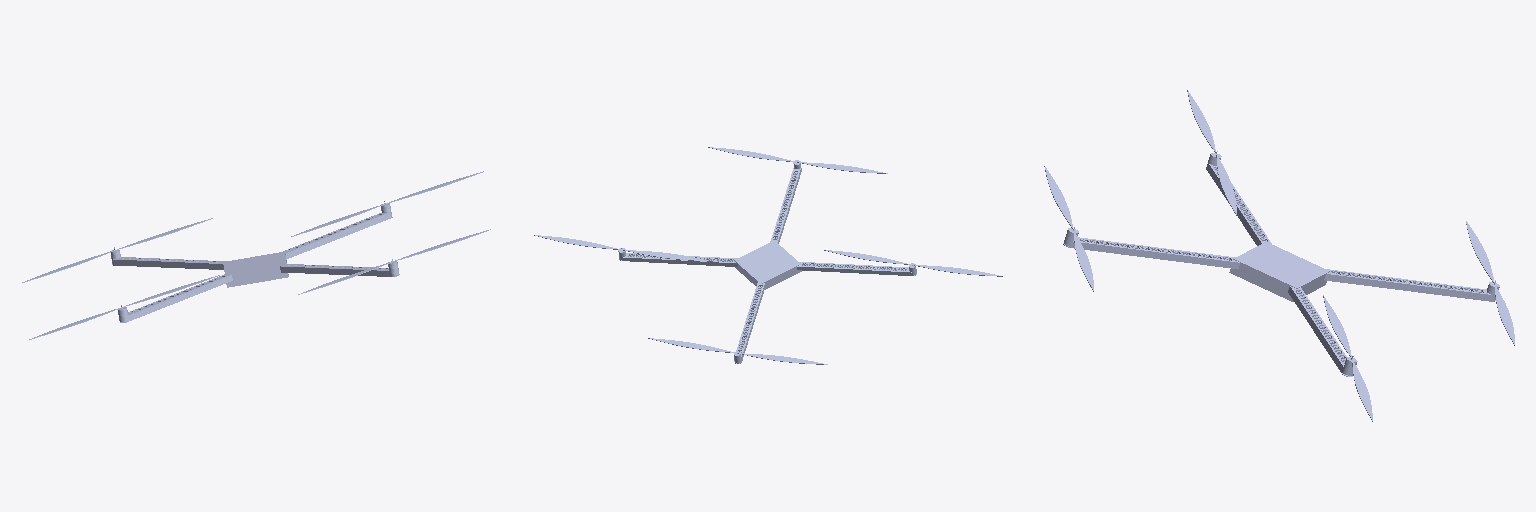
robot.urdf — quadcopter_v1_0_urdf:
<?xml version="1.0" encoding="utf-8"?>
<!-- This URDF was automatically created by SolidWorks to URDF Exporter! Originally created by [author] ([email redacted]) 
     Commit Version: 1.6.0-4-g7f85cfe  Build Version: 1.6.7995.38578
     For more information, please see http://wiki.ros.org/sw_urdf_exporter -->
<robot
  name="quadcopter_v1_0_urdf">
  <link name="dummy">
  </link>
  <joint name="dummy_joint" type="fixed">
    <parent link="dummy"/>
    <child link="base_link"/>
  </joint>
  <link
    name="base_link">
    <inertial>
      <origin
        xyz="-0.0908579511245632 -0.183089894727343 0.328868204622195"
        rpy="0 0 0" />
      <mass
        value="0.0642" />
      <inertia
        ixx="7.88759298386174E-05"
        ixy="-2.59873780156465E-06"
        ixz="7.28111147136525E-07"
        iyy="0.000147664365037692"
        iyz="-1.93005267495999E-05"
        izz="8.41854903635427E-05" />
    </inertial>
    <visual>
      <origin
        xyz="0 0 0"
        rpy="0 0 0" />
      <geometry>
        <mesh
          filename="package://quadcopter_v1_0_urdf/meshes/base_link.STL" />
      </geometry>
      <material
        name="">
        <color
          rgba="0.792156862745098 0.819607843137255 0.933333333333333 1" />
      </material>
    </visual>
    <collision>
      <origin
        xyz="0 0 0"
        rpy="0 0 0" />
      <geometry>
        <mesh
          filename="package://quadcopter_v1_0_urdf/meshes/base_link.STL" />
      </geometry>
    </collision>
  </link>
  <link
    name="arm_1">
    <inertial>
      <origin
        xyz="0.0241643636180894 0.00583843702481002 -0.0350154607412529"
        rpy="0 0 0" />
      <mass
        value="0.0308142804545101" />
      <inertia
        ixx="1.15551361111578E-06"
        ixy="-3.83944153122613E-20"
        ixz="5.70580995219612E-10"
        iyy="0.000129332253895926"
        iyz="6.7762635780344E-21"
        izz="0.000128900963335191" />
    </inertial>
    <visual>
      <origin
        xyz="0 0 0"
        rpy="0 0 0" />
      <geometry>
        <mesh
          filename="package://quadcopter_v1_0_urdf/meshes/arm_1.STL" />
      </geometry>
      <material
        name="">
        <color
          rgba="0.792156862745098 0.819607843137255 0.933333333333333 1" />
      </material>
    </visual>
    <collision>
      <origin
        xyz="0 0 0"
        rpy="0 0 0" />
      <geometry>
        <mesh
          filename="package://quadcopter_v1_0_urdf/meshes/arm_1.STL" />
      </geometry>
    </collision>
  </link>
  <joint
    name="arm_1_joint"
    type="fixed">
    <origin
      xyz="-0.270071494826336 -0.348879463866116 -0.183583562305019"
      rpy="1.84239431223773 -0.0468894372043293 -2.84099956290566" />
    <parent
      link="base_link" />
    <child
      link="arm_1" />
    <axis
      xyz="0 0 0" />
  </joint>
  <link
    name="prop_1">
    <inertial>
      <origin
        xyz="8.57165187915232E-05 0.0138647799159885 0.00292675490410388"
        rpy="0 0 0" />
      <mass
        value="0.00407364353872868" />
      <inertia
        ixx="7.13491545834003E-08"
        ixy="5.46613022005476E-14"
        ixz="2.23553151213388E-07"
        iyy="7.76742940464573E-06"
        iyz="-1.22776049275972E-15"
        izz="7.69675923103702E-06" />
    </inertial>
    <visual>
      <origin
        xyz="0 0 0"
        rpy="0 0 0" />
      <geometry>
        <mesh
          filename="package://quadcopter_v1_0_urdf/meshes/prop_1.STL" />
      </geometry>
      <material
        name="">
        <color
          rgba="0.792156862745098 0.819607843137255 0.933333333333333 1" />
      </material>
    </visual>
    <collision>
      <origin
        xyz="0 0 0"
        rpy="0 0 0" />
      <geometry>
        <mesh
          filename="package://quadcopter_v1_0_urdf/meshes/prop_1.STL" />
      </geometry>
    </collision>
  </link>
  <joint
    name="prop_1_joint"
    type="continuous">
    <origin
      xyz="0.131825607100094 0.00990973980420728 -0.0350636025394211"
      rpy="3.14159265358979 0.166927212605199 3.14159265358979" />
    <parent
      link="arm_1" />
    <child
      link="prop_1" />
    <axis
      xyz="0 1 0" />
  </joint>
  <link
    name="arm_2">
    <inertial>
      <origin
        xyz="0.0325812720452767 -0.002876679002353 0.10261289576674"
        rpy="0 0 0" />
      <mass
        value="0.0308142804545101" />
      <inertia
        ixx="0.00011723419184482"
        ixy="-6.35274710440725E-22"
        ixz="-3.68003181261055E-05"
        iyy="0.000129332253895926"
        iyz="-1.75759336555267E-20"
        izz="1.28222851014875E-05" />
    </inertial>
    <visual>
      <origin
        xyz="0 0 0"
        rpy="0 0 0" />
      <geometry>
        <mesh
          filename="package://quadcopter_v1_0_urdf/meshes/arm_2.STL" />
      </geometry>
      <material
        name="">
        <color
          rgba="0.792156862745098 0.819607843137255 0.933333333333333 1" />
      </material>
    </visual>
    <collision>
      <origin
        xyz="0 0 0"
        rpy="0 0 0" />
      <geometry>
        <mesh
          filename="package://quadcopter_v1_0_urdf/meshes/arm_2.STL" />
      </geometry>
    </collision>
  </link>
  <joint
    name="arm_2_joint"
    type="fixed">
    <origin
      xyz="-0.182959418638706 -0.0434395139297345 -0.256828107057952"
      rpy="1.29762186290921 -0.0363101041830462 0.00499110811962786" />
    <parent
      link="base_link" />
    <child
      link="arm_2" />
    <axis
      xyz="0 1 0" />
  </joint>
  <link
    name="prop_2">
    <inertial>
      <origin
        xyz="8.57165187900522E-05 0.0140272395195912 0.00292675490410353"
        rpy="0 0 0" />
      <mass
        value="0.00407364353872871" />
      <inertia
        ixx="7.1349154583402E-08"
        ixy="5.46612840356614E-14"
        ixz="2.23553151213408E-07"
        iyy="7.76742940464581E-06"
        iyz="-1.22776070451795E-15"
        izz="7.6967592310371E-06" />
    </inertial>
    <visual>
      <origin
        xyz="0 0 0"
        rpy="0 0 0" />
      <geometry>
        <mesh
          filename="package://quadcopter_v1_0_urdf/meshes/prop_2.STL" />
      </geometry>
      <material
        name="">
        <color
          rgba="0.792156862745098 0.819607843137255 0.933333333333333 1" />
      </material>
    </visual>
    <collision>
      <origin
        xyz="0 0 0"
        rpy="0 0 0" />
      <geometry>
        <mesh
          filename="package://quadcopter_v1_0_urdf/meshes/prop_2.STL" />
      </geometry>
    </collision>
  </link>
  <joint
    name="prop_2_joint"
    type="continuous">
    <origin
      xyz="0 0 0"
      rpy="0 0.140074001564635 0" />
    <parent
      link="arm_2" />
    <child
      link="prop_2" />
    <axis
      xyz="0 1 0" />
  </joint>
  <link
    name="arm_3">
    <inertial>
      <origin
        xyz="0.0241643636180893 0.00591563883907265 -0.0350154607412529"
        rpy="0 0 0" />
      <mass
        value="0.0308142804545101" />
      <inertia
        ixx="1.1555136111158E-06"
        ixy="5.39718806078599E-20"
        ixz="5.70580995209606E-10"
        iyy="0.000129332253895926"
        iyz="0"
        izz="0.000128900963335192" />
    </inertial>
    <visual>
      <origin
        xyz="0 0 0"
        rpy="0 0 0" />
      <geometry>
        <mesh
          filename="package://quadcopter_v1_0_urdf/meshes/arm_3.STL" />
      </geometry>
      <material
        name="">
        <color
          rgba="0.792156862745098 0.819607843137255 0.933333333333333 1" />
      </material>
    </visual>
    <collision>
      <origin
        xyz="0 0 0"
        rpy="0 0 0" />
      <geometry>
        <mesh
          filename="package://quadcopter_v1_0_urdf/meshes/arm_3.STL" />
      </geometry>
    </collision>
  </link>
  <joint
    name="arm_3_joint"
    type="fixed">
    <origin
      xyz="0.0883094515572144 -0.308514261329835 -0.181373136424891"
      rpy="1.29919834135206 0.0468894372043292 0.30059309068413" />
    <parent
      link="base_link" />
    <child
      link="arm_3" />
    <axis
      xyz="0 0 0" />
  </joint>
  <link
    name="prop_3">
    <inertial>
      <origin
        xyz="8.57165187891917E-05 0.0138647799159876 0.00292675490410416"
        rpy="0 0 0" />
      <mass
        value="0.00407364353872878" />
      <inertia
        ixx="7.1349154583403E-08"
        ixy="5.46612899483484E-14"
        ixz="2.23553151213431E-07"
        iyy="7.76742940464606E-06"
        iyz="-1.22776028100148E-15"
        izz="7.69675923103735E-06" />
    </inertial>
    <visual>
      <origin
        xyz="0 0 0"
        rpy="0 0 0" />
      <geometry>
        <mesh
          filename="package://quadcopter_v1_0_urdf/meshes/prop3.STL" />
      </geometry>
      <material
        name="">
        <color
          rgba="0.792156862745098 0.819607843137255 0.933333333333333 1" />
      </material>
    </visual>
    <collision>
      <origin
        xyz="0 0 0"
        rpy="0 0 0" />
      <geometry>
        <mesh
          filename="package://quadcopter_v1_0_urdf/meshes/prop3.STL" />
      </geometry>
    </collision>
  </link>
  <joint
    name="prop_3_joint"
    type="continuous">
    <origin
      xyz="0.131825607100094 0.00939341612020517 -0.0350636025394209"
      rpy="0 -0.166927212605201 0" />
    <parent
      link="arm_3" />
    <child
      link="prop_3" />
    <axis
      xyz="0 1 0" />
  </joint>
  <link
    name="arm_4">
    <inertial>
      <origin
        xyz="0.0241643636180889 0.005847900774412 -0.0350154607412529"
        rpy="0 0 0" />
      <mass
        value="0.0308142804545102" />
      <inertia
        ixx="1.15551361111578E-06"
        ixy="-2.04717275439524E-19"
        ixz="5.70580995367366E-10"
        iyy="0.000129332253895927"
        iyz="-2.03287907341032E-20"
        izz="0.000128900963335192" />
    </inertial>
    <visual>
      <origin
        xyz="0 0 0"
        rpy="0 0 0" />
      <geometry>
        <mesh
          filename="package://quadcopter_v1_0_urdf/meshes/arm_4.STL" />
      </geometry>
      <material
        name="">
        <color
          rgba="0.792156862745098 0.819607843137255 0.933333333333333 1" />
      </material>
    </visual>
    <collision>
      <origin
        xyz="0 0 0"
        rpy="0 0 0" />
      <geometry>
        <mesh
          filename="package://quadcopter_v1_0_urdf/meshes/arm_4.STL" />
      </geometry>
    </collision>
  </link>
  <joint
    name="arm_4_joint"
    type="fixed">
    <origin
      xyz="-0.0717575933124926 -0.501169219567261 -0.133433827316574"
      rpy="1.52212544568917 -0.271291919602174 -1.25715102486467" />
    <parent
      link="base_link" />
    <child
      link="arm_4" />
    <axis
      xyz="0 0 0" />
  </joint>
  <link
    name="prop_4">
    <inertial>
      <origin
        xyz="8.58015515640825E-05 0.0138647799159881 -0.00292675241249418"
        rpy="0 0 0" />
      <mass
        value="0.00407364353872863" />
      <inertia
        ixx="7.13581325632632E-08"
        ixy="-5.46393852329636E-14"
        ixz="-2.23706218319812E-07"
        iyy="7.76742940464543E-06"
        iyz="-1.97494180805989E-15"
        izz="7.69675025305686E-06" />
    </inertial>
    <visual>
      <origin
        xyz="0 0 0"
        rpy="0 0 0" />
      <geometry>
        <mesh
          filename="package://quadcopter_v1_0_urdf/meshes/prop_4.STL" />
      </geometry>
      <material
        name="">
        <color
          rgba="0.792156862745098 0.819607843137255 0.933333333333333 1" />
      </material>
    </visual>
    <collision>
      <origin
        xyz="0 0 0"
        rpy="0 0 0" />
      <geometry>
        <mesh
          filename="package://quadcopter_v1_0_urdf/meshes/prop_4.STL" />
      </geometry>
    </collision>
  </link>
  <joint
    name="prop_4_joint"
    type="continuous">
    <origin
      xyz="0.131825607100094 0.00912937612862014 -0.0350636025394206"
      rpy="-3.14159265358976 -1.46245587192948 3.14159265358976" />
    <parent
      link="arm_4" />
    <child
      link="prop_4" />
    <axis
      xyz="0 1 0" />
  </joint>
  
  <transmission name="tran1">
    <type>transmission_interface/SimpleTransmission</type>
    <joint name="prop_1_joint">
      <hardwareInterface>hardware_interface/VelocityJointInterface</hardwareInterface>
    </joint>
    <actuator name="motor1">
      <hardwareInterface>hardware_interface/VelocityJointInterface</hardwareInterface>
      <mechanicalReduction>1</mechanicalReduction>
    </actuator>
  </transmission>

  <transmission name="tran2">
    <type>transmission_interface/SimpleTransmission</type>
    <joint name="prop_2_joint">
      <hardwareInterface>hardware_interface/VelocityJointInterface</hardwareInterface>
    </joint>
    <actuator name="motor2">
      <hardwareInterface>hardware_interface/VelocityJointInterface</hardwareInterface>
      <mechanicalReduction>1</mechanicalReduction>
    </actuator>
  </transmission>
  
  <transmission name="tran3">
    <type>transmission_interface/SimpleTransmission</type>
    <joint name="prop_3_joint">
      <hardwareInterface>hardware_interface/VelocityJointInterface</hardwareInterface>
    </joint>
    <actuator name="motor3">
      <hardwareInterface>hardware_interface/VelocityJointInterface</hardwareInterface>
      <mechanicalReduction>1</mechanicalReduction>
    </actuator>
  </transmission>
  
  <transmission name="tran4">
    <type>transmission_interface/SimpleTransmission</type>
    <joint name="prop_4_joint">
      <hardwareInterface>hardware_interface/VelocityJointInterface</hardwareInterface>
    </joint>
    <actuator name="motor4">
      <hardwareInterface>hardware_interface/VelocityJointInterface</hardwareInterface>
      <mechanicalReduction>1</mechanicalReduction>
    </actuator>
  </transmission>
  
  <gazebo>
    <plugin name="gazebo_ros_control" filename="libgazebo_ros_control.so">
      <robotNamespace></robotNamespace>
    </plugin>
  </gazebo>
  
</robot>

--- Render facts (derived) ---
Views: 3 orthographic renders of the robot side by side, from view 1: azimuth 30°, elevation 25°; view 2: azimuth 150°, elevation 25°; view 3: azimuth 270°, elevation 25°.
Model quadcopter_v1_0_urdf with 10 links and 9 joints (4 continuous, 5 fixed), rooted at dummy, posed all joints at 0.
Visible links, largest first — view 1: base_link, arm_1, arm_3, arm_2, arm_4; view 2: base_link, arm_1, arm_3, arm_2, arm_4, prop_2, prop_3, prop_4, prop_1; view 3: base_link, arm_2, arm_4, arm_3, arm_1, prop_3, prop_1, prop_2, prop_4.
Link boxes in pixels (left/top/right/bottom): base_link: left=223, top=252, right=288, bottom=287; arm_1: left=118, top=274, right=232, bottom=322; arm_3: left=283, top=201, right=392, bottom=259; arm_2: left=110, top=247, right=225, bottom=269; arm_4: left=280, top=259, right=399, bottom=276; base_link: left=734, top=240, right=801, bottom=289; arm_1: left=797, top=262, right=916, bottom=275; arm_3: left=618, top=248, right=737, bottom=266; arm_2: left=734, top=282, right=765, bottom=363; arm_4: left=770, top=160, right=801, bottom=243; prop_2: left=648, top=338, right=827, bottom=364; prop_3: left=534, top=235, right=712, bottom=261; prop_4: left=708, top=147, right=887, bottom=173; prop_1: left=824, top=250, right=1002, bottom=276; base_link: left=1229, top=242, right=1329, bottom=301; arm_2: left=1324, top=269, right=1499, bottom=301; arm_4: left=1063, top=227, right=1239, bottom=268; arm_3: left=1288, top=286, right=1357, bottom=376; arm_1: left=1206, top=151, right=1271, bottom=245; prop_3: left=1323, top=295, right=1372, bottom=421; prop_1: left=1187, top=90, right=1236, bottom=215; prop_2: left=1466, top=221, right=1514, bottom=345; prop_4: left=1044, top=166, right=1093, bottom=291.
Size in the robot's own frame: 0.9833 by 0.6329 by 0.195 metres.
9 mesh visuals loaded from 9 distinct referenced files (9 binary STL).